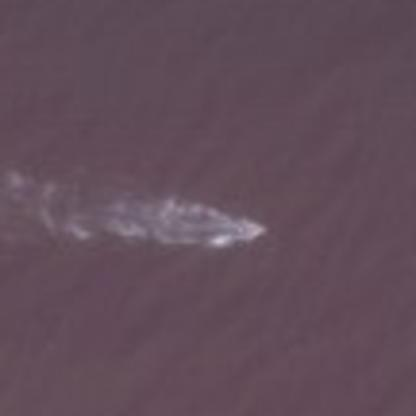ship: (197, 207, 273, 253)
